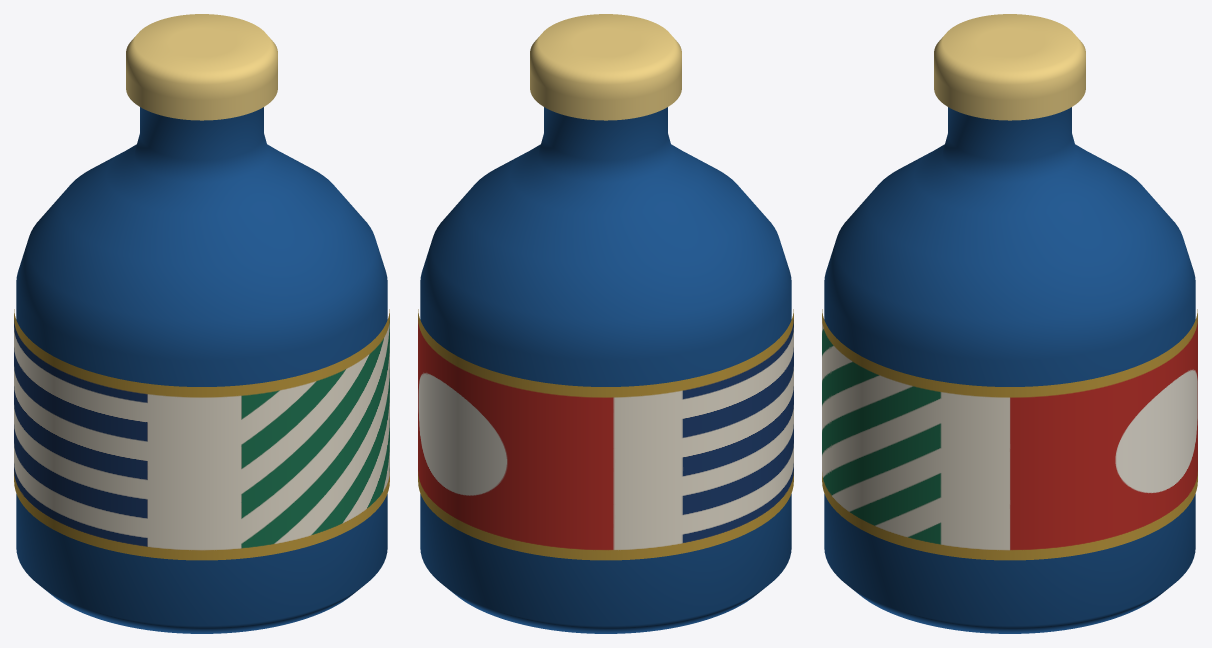
File: product-normalized.glb
3 views of the same model, side by side, from view 1: azimuth 30°, elevation 25°; view 2: azimuth 150°, elevation 25°; view 3: azimuth 270°, elevation 25° (orthographic).
Parts seen in each view (by area): view 1: Body, Label, Cap; view 2: Body, Label, Cap; view 3: Body, Label, Cap.
Part boxes in pixels (box(x1,y1,x2,y2)): Body: box(16, 107, 387, 633); Label: box(14, 309, 389, 560); Cap: box(126, 14, 277, 120); Body: box(420, 107, 791, 633); Label: box(418, 309, 793, 560); Cap: box(530, 14, 681, 120); Body: box(824, 107, 1195, 633); Label: box(822, 309, 1197, 560); Cap: box(934, 14, 1085, 120).
Size of the model in its own units: 0.6549 by 1 by 0.6549.
Materials: 3 (1 with a texture image).
